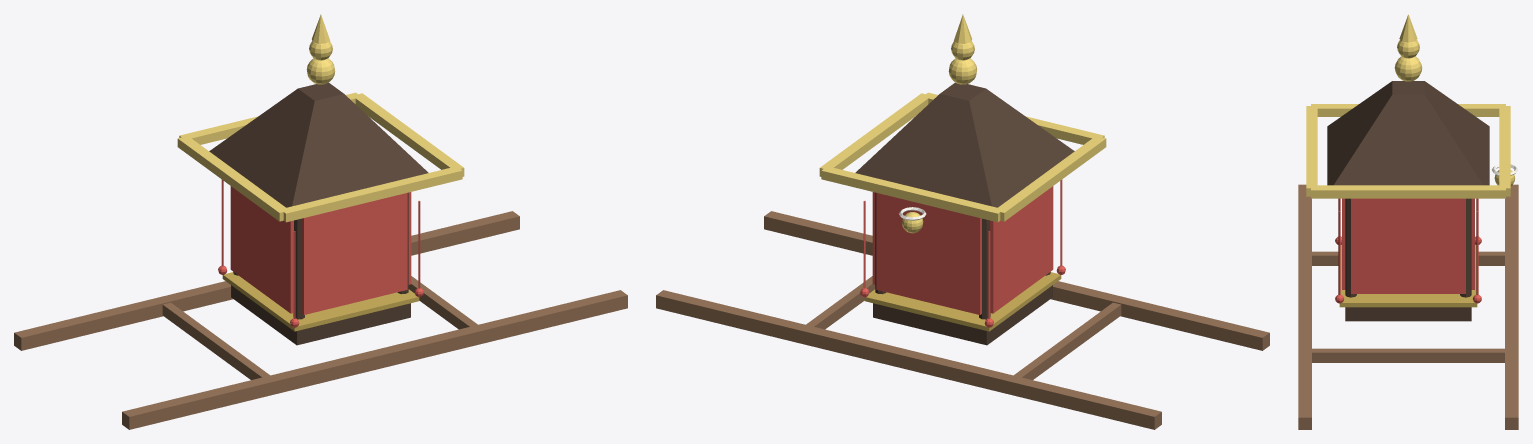
File: omikoshi.glb
3 views of the same model, side by side, from view 1: azimuth 30°, elevation 25°; view 2: azimuth 150°, elevation 25°; view 3: azimuth 270°, elevation 25° (orthographic). The views are drawn at different scales.
Visible parts, largest first — view 1: omikoshi; view 2: omikoshi; view 3: omikoshi.
Boxes of the visible parts, x1,y1,x2,y2 form: omikoshi: (14,14,627,429); omikoshi: (656,14,1269,429); omikoshi: (1298,14,1518,429).
Bounding box in the file's own units: 2.4 × 1.44 × 0.96.
